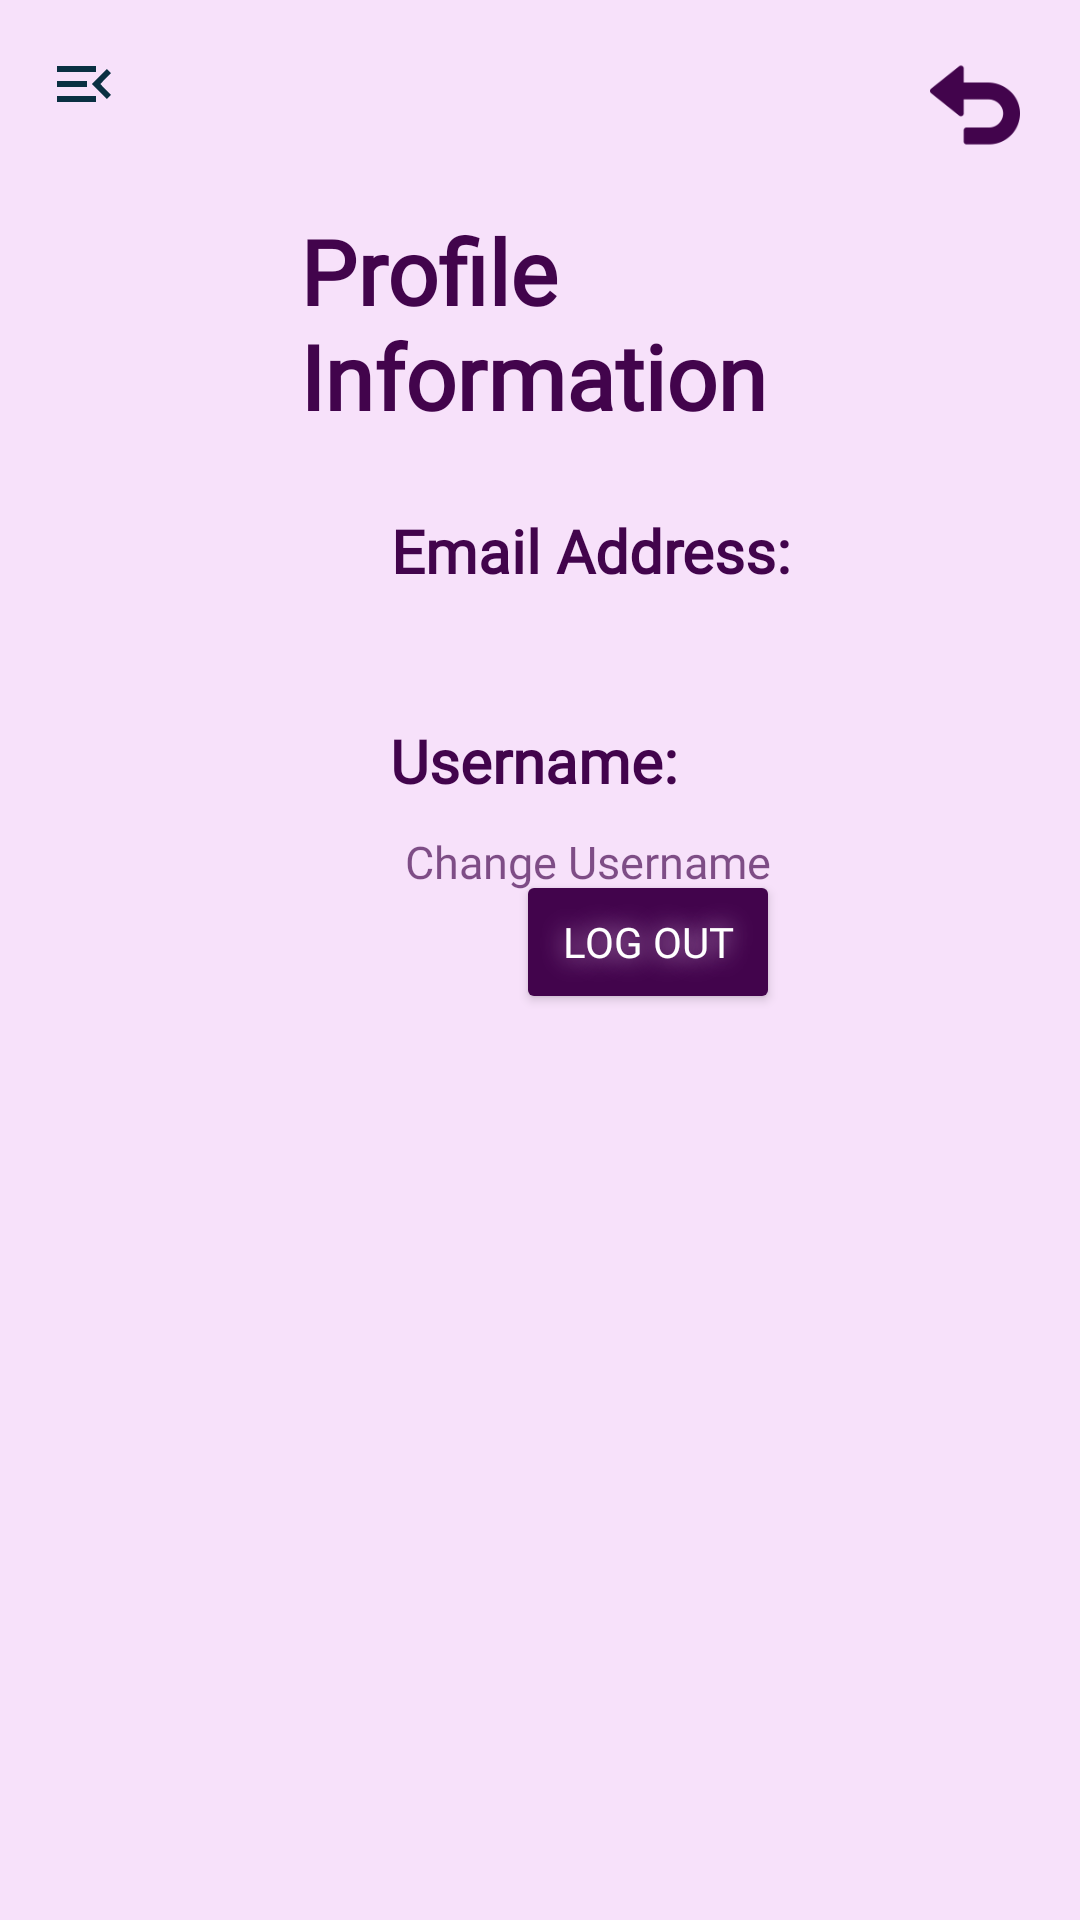

Screen size 1080px x 1920px. Icon name, then its center in pixels as (x=x, y=y):
undo: (x=975, y=105)
